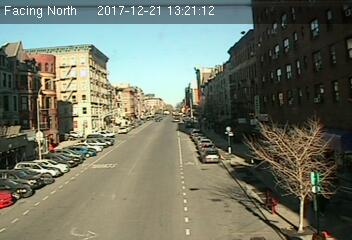car: (201, 147, 220, 164)
